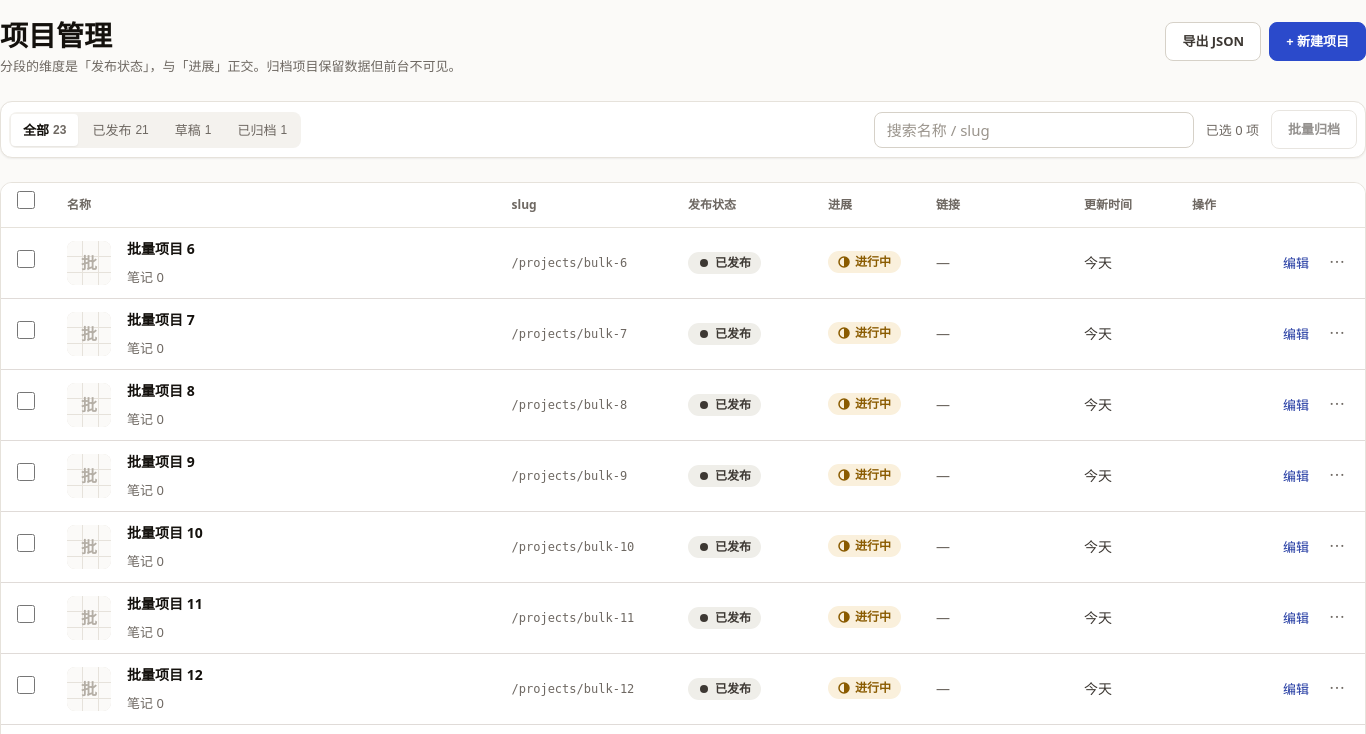
Test: ProjectListView › 末页被删空时自动回落到上一页（page 与分页控件不再自相矛盾）
The image size is (1366, 734).
Click the button "已发布 21" at {"x": 121, "y": 130}, box [80, 114, 161, 146]
(page scrolled)
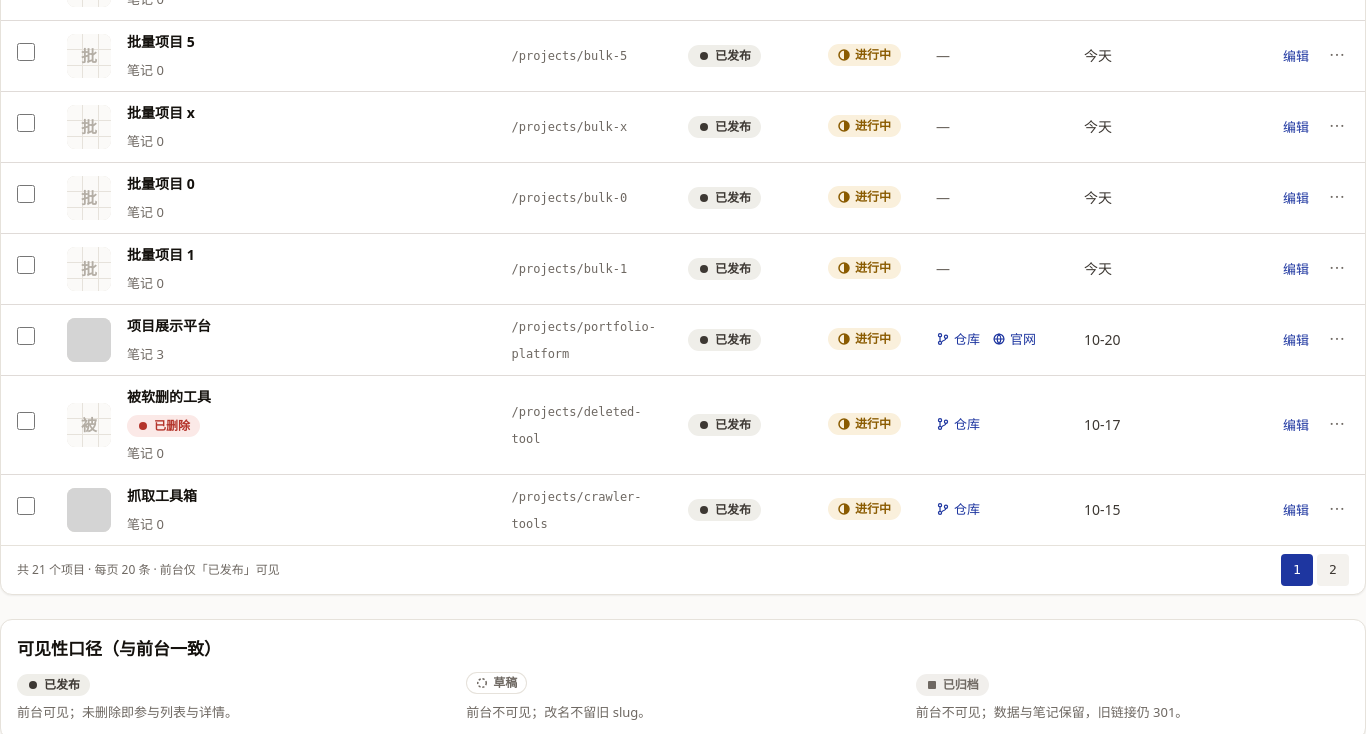
Click the button named "第 2 页，共 2 页" at {"x": 1333, "y": 570}, box [1317, 554, 1349, 586]
(page scrolled)
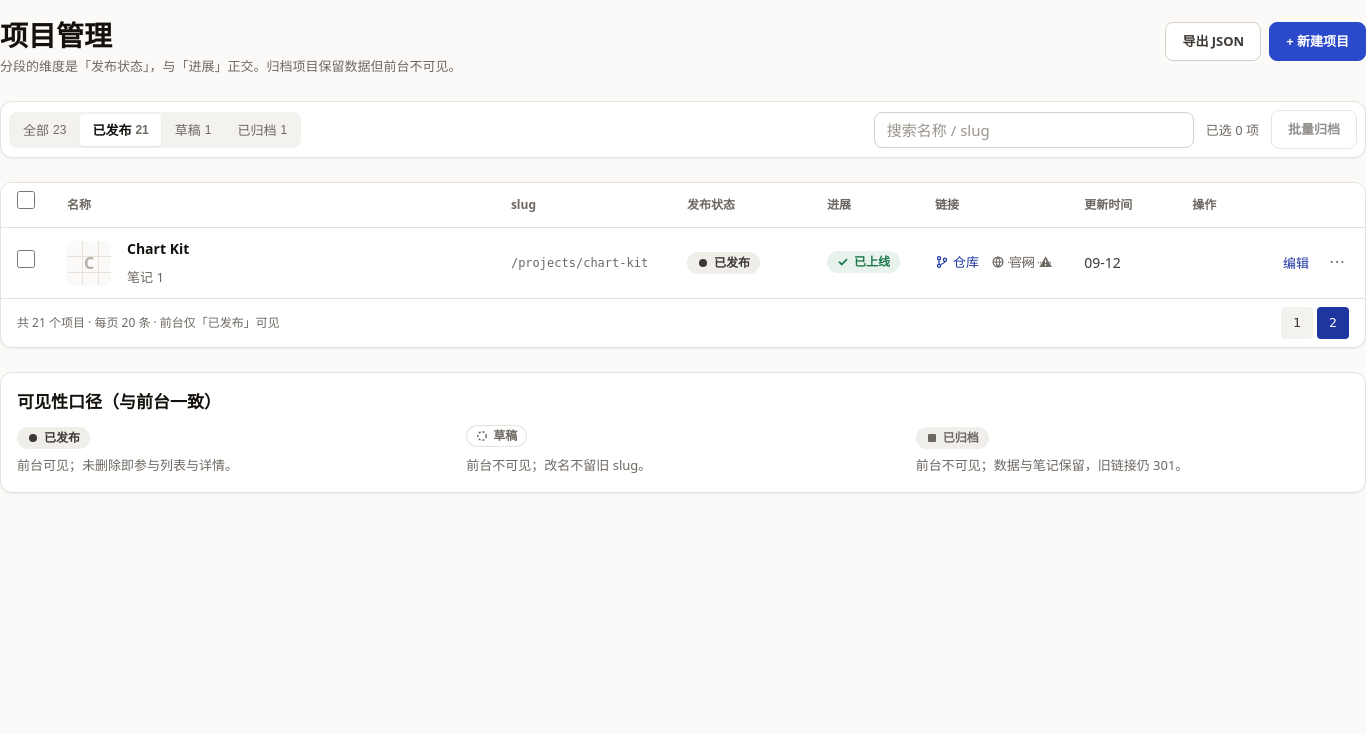
Expected: the button named "第 2 页，共 2 页" is marked as current, [1317, 306, 1349, 338]
Click the checkbox named "选择 " at {"x": 26, "y": 258}, box [17, 250, 35, 268]
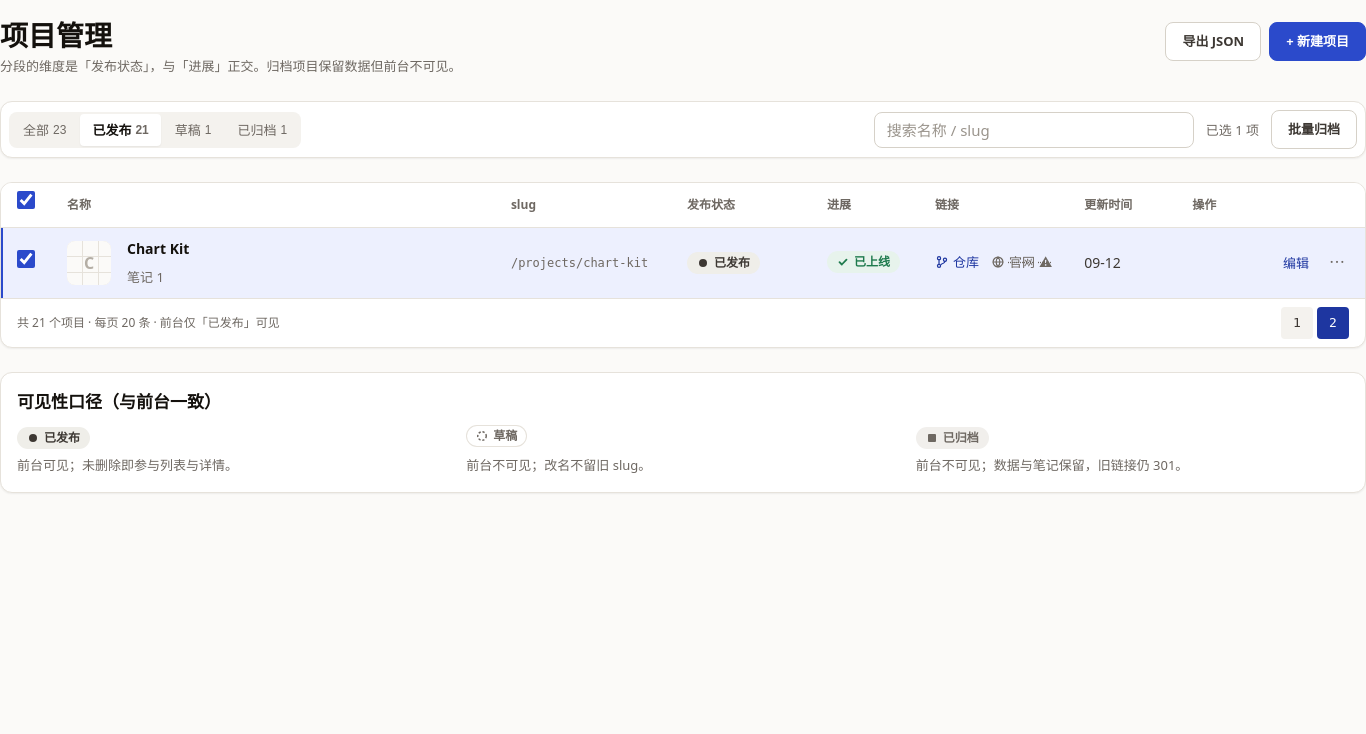
Click the button "批量归档" at {"x": 1314, "y": 130}, box [1271, 110, 1357, 149]
(page scrolled)
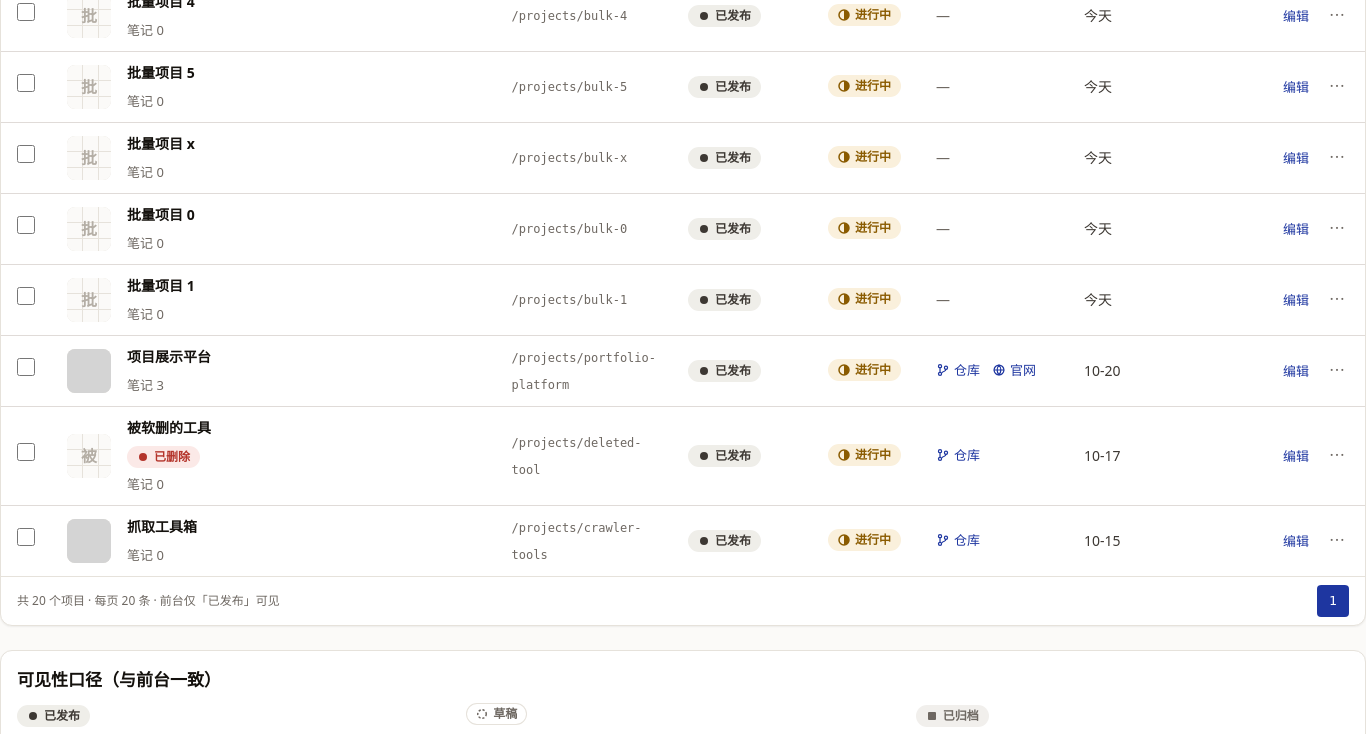
Expected: the row that starts with "项目展示平台" is shown, [1, 335, 1365, 406]
Expected: the link "项目展示平台" is shown, [127, 344, 211, 370]
